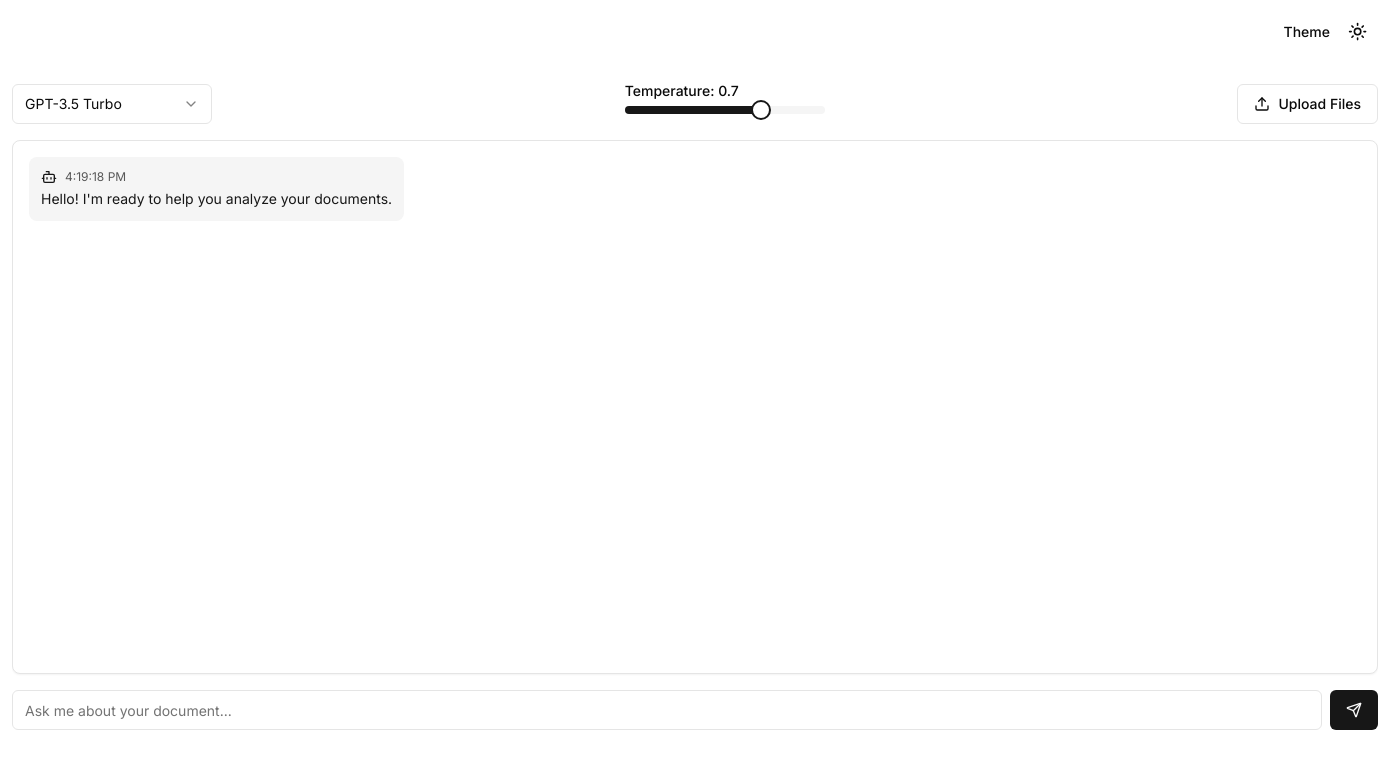
it: ChatInterface › handles user input and message sending
In the field with placeholder "Ask me about your document...": (667, 710) [12,690,1322,730], type "test message"
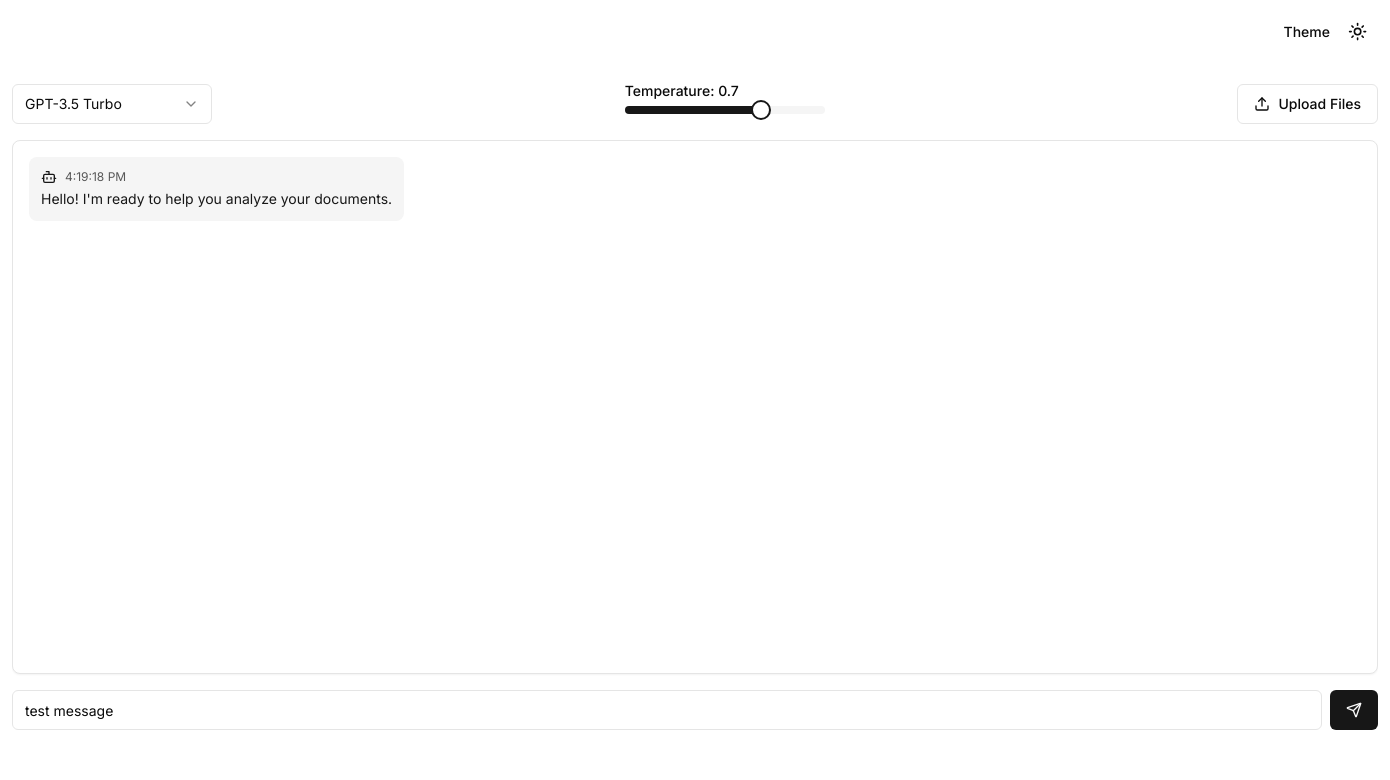
Click the button named "Send message": click(1354, 710) [1330,690,1378,730]
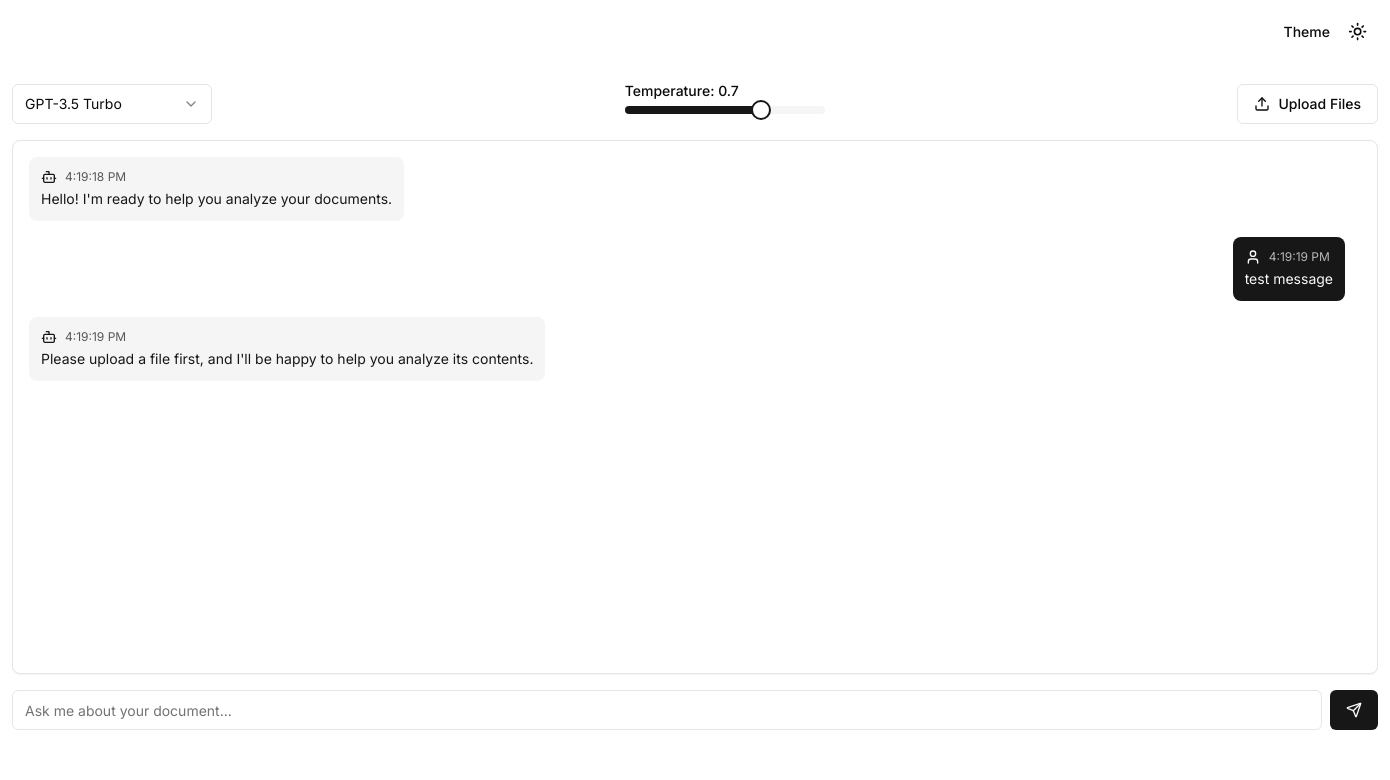
Expected: the text "test message" is shown, [1245,269,1333,289]
